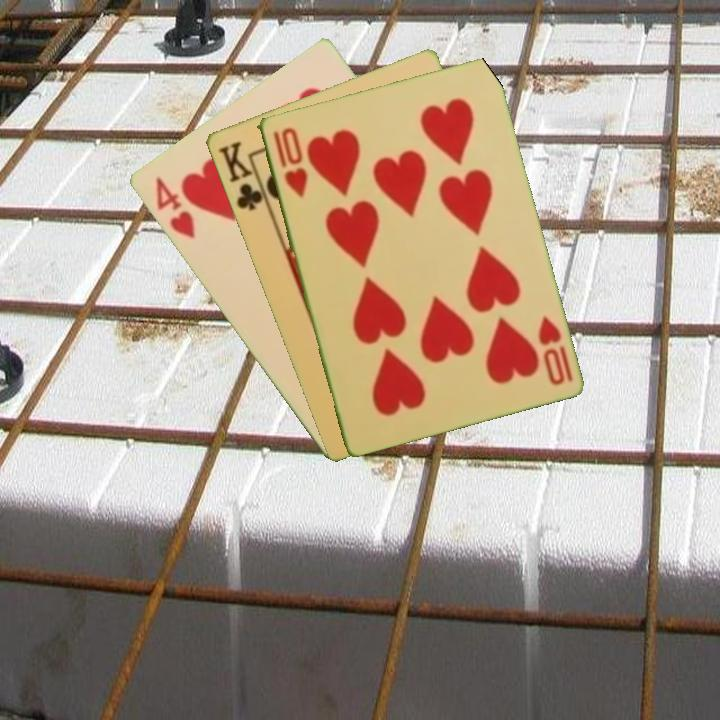10h: (269, 123, 310, 201), (534, 311, 575, 388)
4h: (151, 172, 198, 242)
Kc: (214, 137, 271, 214)
